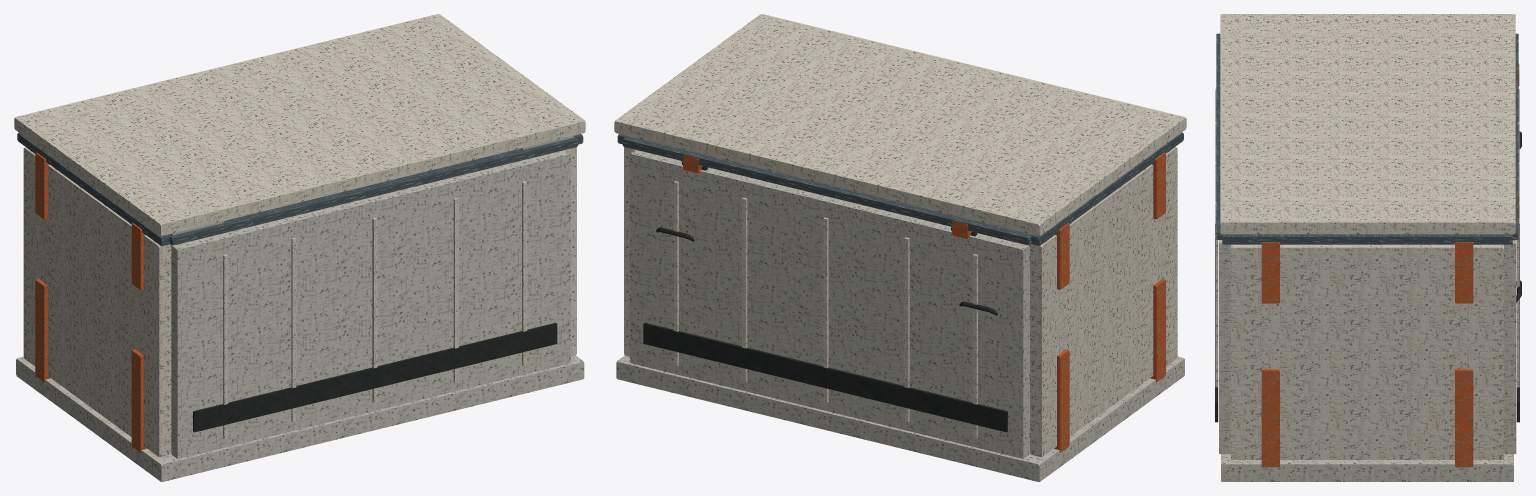
File: fitout_kit_box.glb
3 renders of one model, left to right at view 1: azimuth 30°, elevation 25°; view 2: azimuth 150°, elevation 25°; view 3: azimuth 270°, elevation 25°, orthographic.
Visible parts, largest first — view 1: Rear_shell_rover_white, lid_top_worn_white_painted, long_wall_-1_white_painted, base_shock_platform_rover_white, Rear_rubber_protector_black_rubber, Rear_top_edge_dark_alloy, upper_rail_-1_dark_alloy, long_wall_1_white_painted, wall_corner_armor_-1_front_orange, wall_corner_armor_-1_rear_orange, Rear_pressed_rib_-0.38_white_painted, Rear_pressed_rib_+0.00_white_painted (+5 smaller); view 2: Front_shell_rover_white, lid_top_worn_white_painted, long_wall_-1_white_painted, base_shock_platform_rover_white, Front_rubber_protector_black_rubber, Front_top_edge_dark_alloy, upper_rail_-1_dark_alloy, long_wall_1_white_painted, wall_corner_armor_-1_front_orange, wall_corner_armor_-1_rear_orange, Front_pressed_rib_-0.38_white_painted, Front_pressed_rib_+0.00_white_painted (+5 smaller); view 3: lid_top_worn_white_painted, long_wall_1_white_painted, base_shock_platform_rover_white, upper_rail_1_dark_alloy, Front_shell_rover_white, Rear_shell_rover_white, wall_corner_armor_1_front_orange, wall_corner_armor_1_rear_orange, upper_corner_armor_1_front_orange, upper_corner_armor_1_rear_orange, Rear_top_edge_dark_alloy, Front_top_edge_dark_alloy (+2 smaller).
Boxes of the visible parts, x1,y1,x2,y2 form: Rear_shell_rover_white: [171, 150, 570, 458]; lid_top_worn_white_painted: [14, 14, 585, 235]; long_wall_-1_white_painted: [23, 147, 171, 456]; base_shock_platform_rover_white: [16, 356, 584, 481]; Rear_rubber_protector_black_rubber: [193, 323, 557, 432]; Rear_top_edge_dark_alloy: [168, 137, 578, 245]; upper_rail_-1_dark_alloy: [17, 132, 169, 245]; long_wall_1_white_painted: [565, 147, 576, 356]; wall_corner_armor_-1_front_orange: [35, 279, 50, 381]; wall_corner_armor_-1_rear_orange: [131, 349, 146, 452]; Rear_pressed_rib_-0.38_white_painted: [291, 237, 296, 422]; Rear_pressed_rib_+0.00_white_painted: [372, 217, 377, 402]; Front_shell_rover_white: [630, 150, 1029, 458]; lid_top_worn_white_painted: [614, 14, 1186, 236]; long_wall_-1_white_painted: [1030, 146, 1177, 456]; base_shock_platform_rover_white: [616, 355, 1184, 481]; Front_rubber_protector_black_rubber: [643, 322, 1007, 432]; Front_top_edge_dark_alloy: [622, 136, 1032, 245]; upper_rail_-1_dark_alloy: [1031, 132, 1183, 245]; long_wall_1_white_painted: [624, 147, 635, 356]; wall_corner_armor_-1_front_orange: [1054, 349, 1069, 452]; wall_corner_armor_-1_rear_orange: [1150, 278, 1165, 381]; Front_pressed_rib_-0.38_white_painted: [904, 237, 909, 422]; Front_pressed_rib_+0.00_white_painted: [823, 217, 828, 402]; lid_top_worn_white_painted: [1220, 14, 1515, 234]; long_wall_1_white_painted: [1231, 244, 1503, 459]; base_shock_platform_rover_white: [1221, 454, 1513, 481]; upper_rail_1_dark_alloy: [1222, 234, 1512, 244]; Front_shell_rover_white: [1504, 240, 1516, 454]; Rear_shell_rover_white: [1219, 240, 1230, 454]; wall_corner_armor_1_front_orange: [1455, 369, 1473, 467]; wall_corner_armor_1_rear_orange: [1261, 369, 1279, 467]; upper_corner_armor_1_front_orange: [1455, 242, 1473, 303]; upper_corner_armor_1_rear_orange: [1261, 242, 1279, 303]; Rear_top_edge_dark_alloy: [1216, 33, 1222, 239]; Front_top_edge_dark_alloy: [1512, 33, 1518, 239].
Bounding box in the file's own units: 1.99 × 1.16 × 1.24.
Materials: 12 (12 with a texture image).
